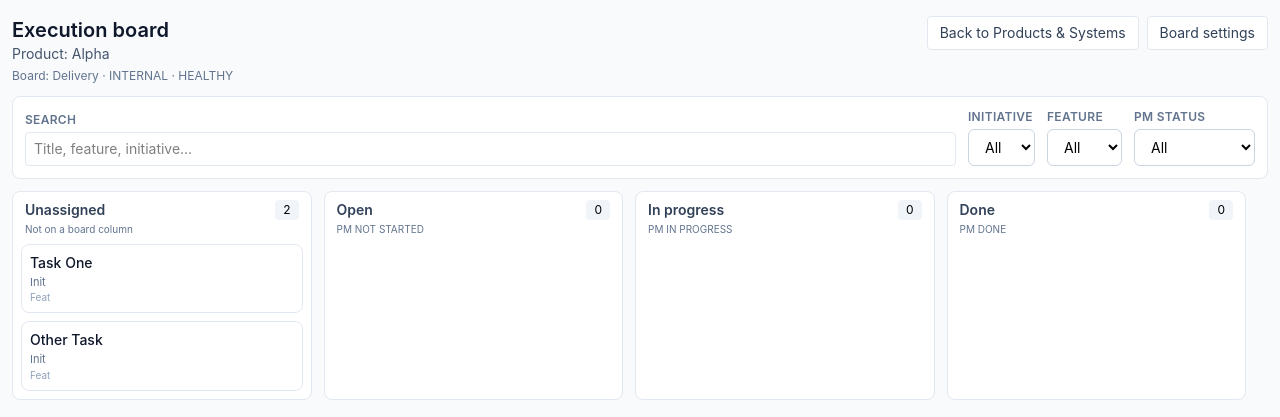
Test: ExecutionBoardPage › filters cards by search text
Check: the text "Task One" is shown, box [30, 254, 92, 271]
Type "Other" into the search field with placeholder "Title, feature, initiative…". click: (490, 149)
box: [25, 132, 956, 166]
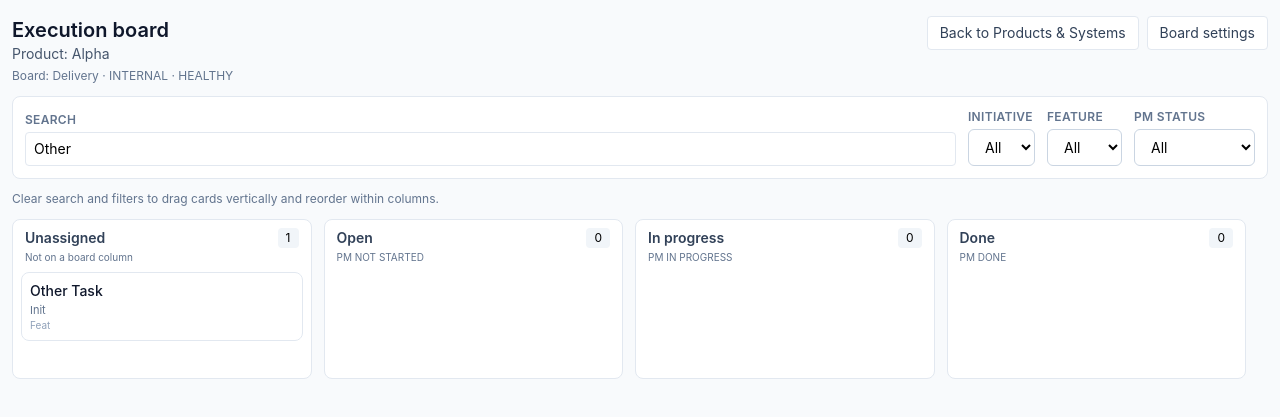
Check: the text "Other Task" is shown, box [30, 282, 103, 299]
Check: the link "Task One" is gone
